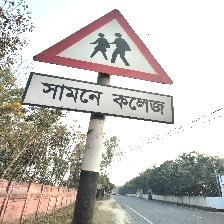College-in-front: (12, 0, 199, 143)
